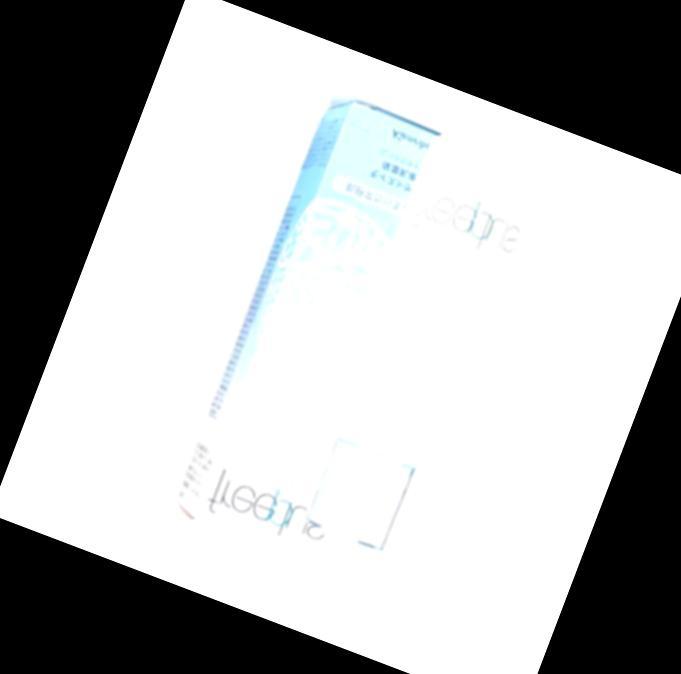cosmetic: (284, 124, 552, 563)
